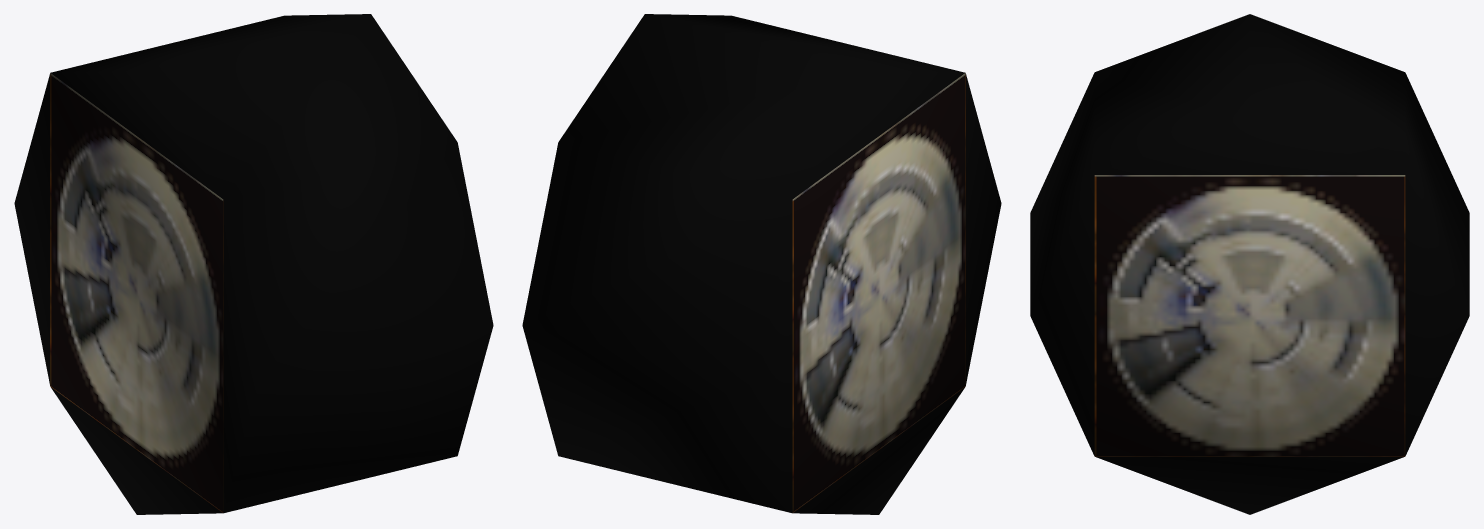
File: WheelRearL.obj
The picture shows the model from 3 angles, left to right: view 1: azimuth 30°, elevation 25°; view 2: azimuth 150°, elevation 25°; view 3: azimuth 270°, elevation 25°; orthographic projection. The views are drawn at different scales.
Visible parts, largest first — view 1: WheelRearL; view 2: WheelRearL; view 3: WheelRearL.
Boxes of the visible parts, x1,y1,x2,y2 form: WheelRearL: (14, 14, 493, 514); WheelRearL: (522, 14, 1001, 514); WheelRearL: (1030, 14, 1469, 514).
Bounding box in the file's own units: 0.9633 × 1.74 × 1.74.
2 materials, 1 textured.
